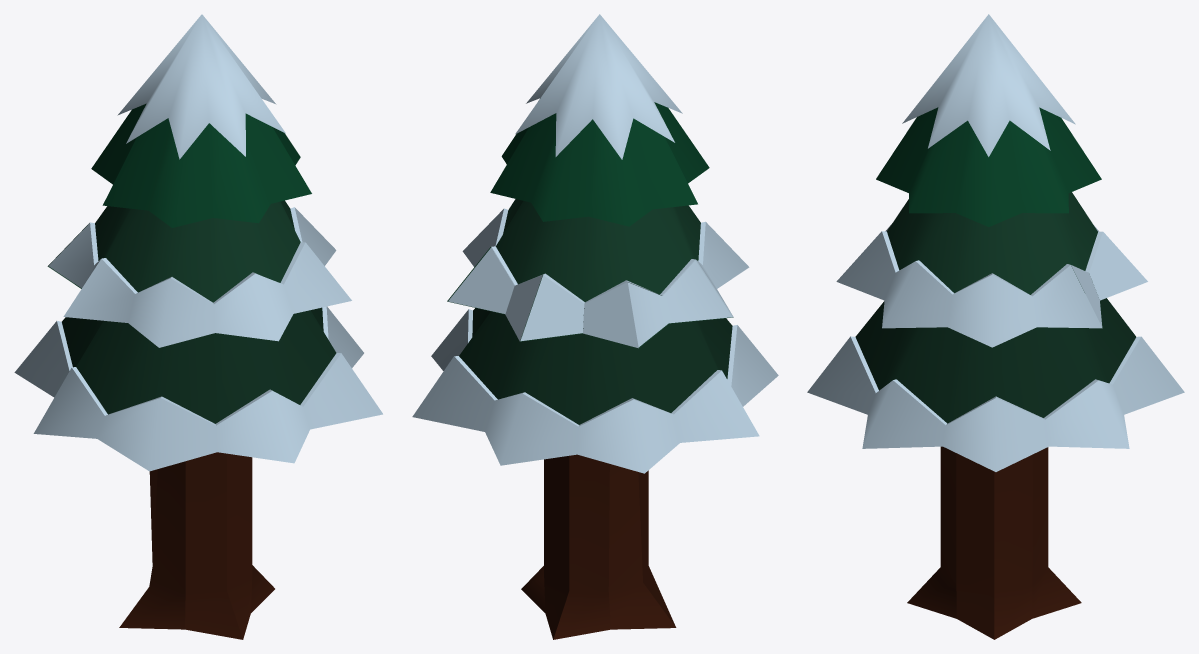
File: M.arvore4.fbx
3 views of the same model, side by side, from view 1: azimuth 30°, elevation 25°; view 2: azimuth 150°, elevation 25°; view 3: azimuth 270°, elevation 25° (orthographic).
Parts seen in each view (by area): view 1: pasted__pasted__pCone2; view 2: pasted__pasted__pCone2; view 3: pasted__pasted__pCone2.
Boxes of the visible parts, x1,y1,x2,y2 form: pasted__pasted__pCone2: (14, 14, 382, 639); pasted__pasted__pCone2: (412, 14, 778, 639); pasted__pasted__pCone2: (807, 14, 1184, 639).
Size of the model in its own units: 3.77 by 6.5 by 3.77.
